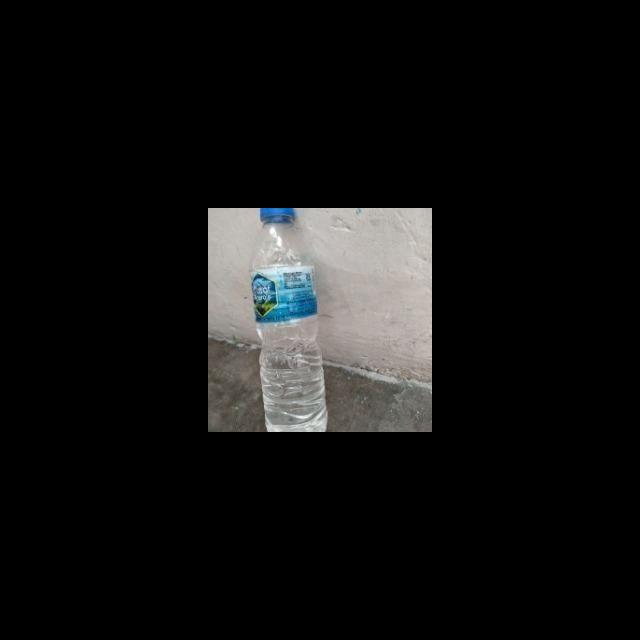plastic: (251, 208, 333, 432)
